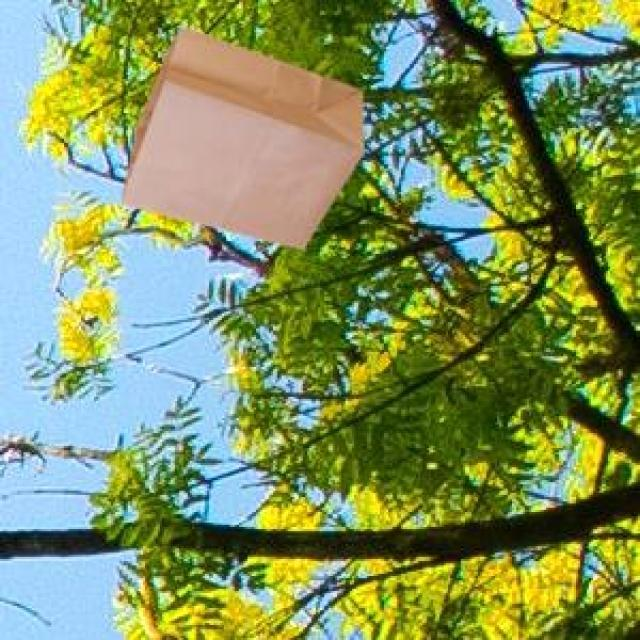Paper_Bag: (118, 25, 362, 246)
